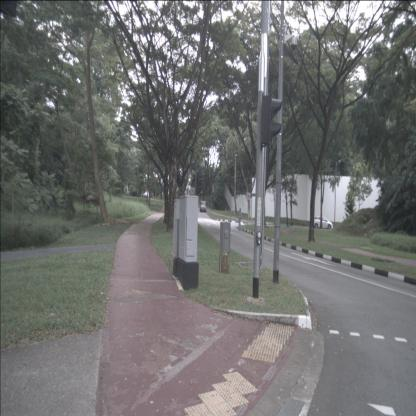human-pedestrian-adult: (236, 207, 242, 231)
vehicle-car: (313, 216, 333, 229)
vehicle-truck: (199, 200, 206, 212)
